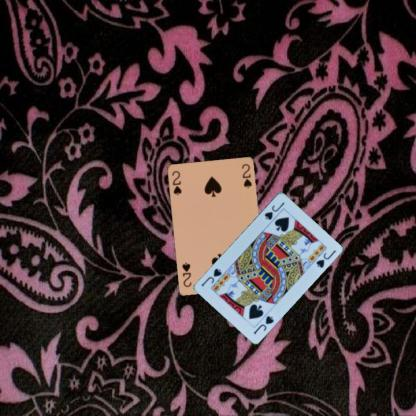2s: (169, 168, 183, 197)
Js: (262, 199, 286, 221), (251, 313, 275, 335)
